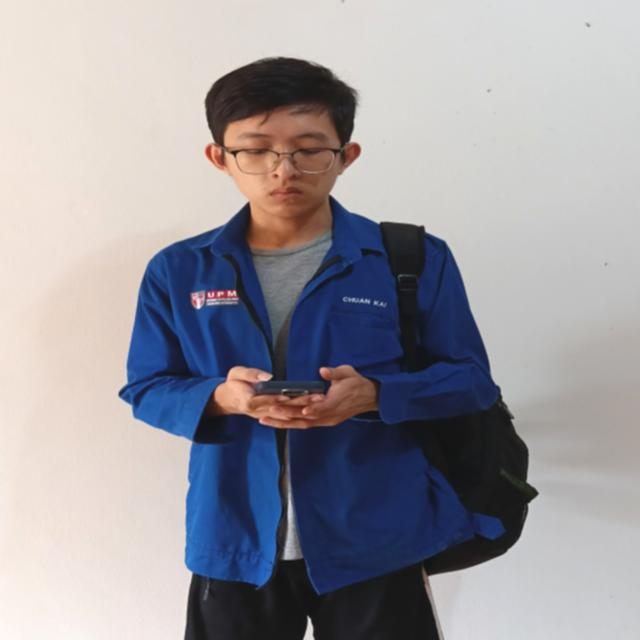person_with_labcoat: (119, 57, 537, 640)
